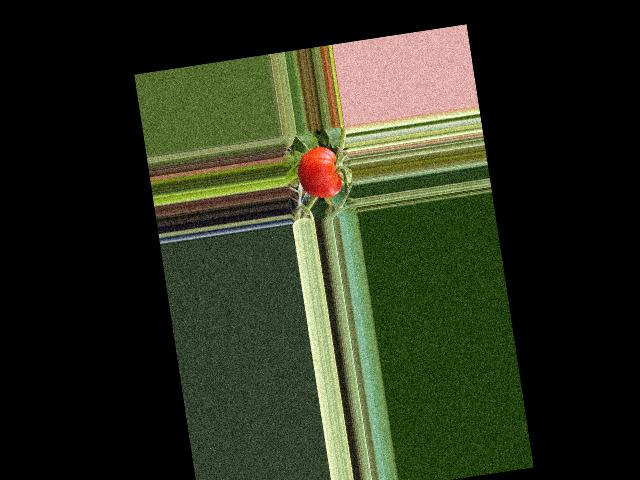tomato: (294, 145, 343, 201)
